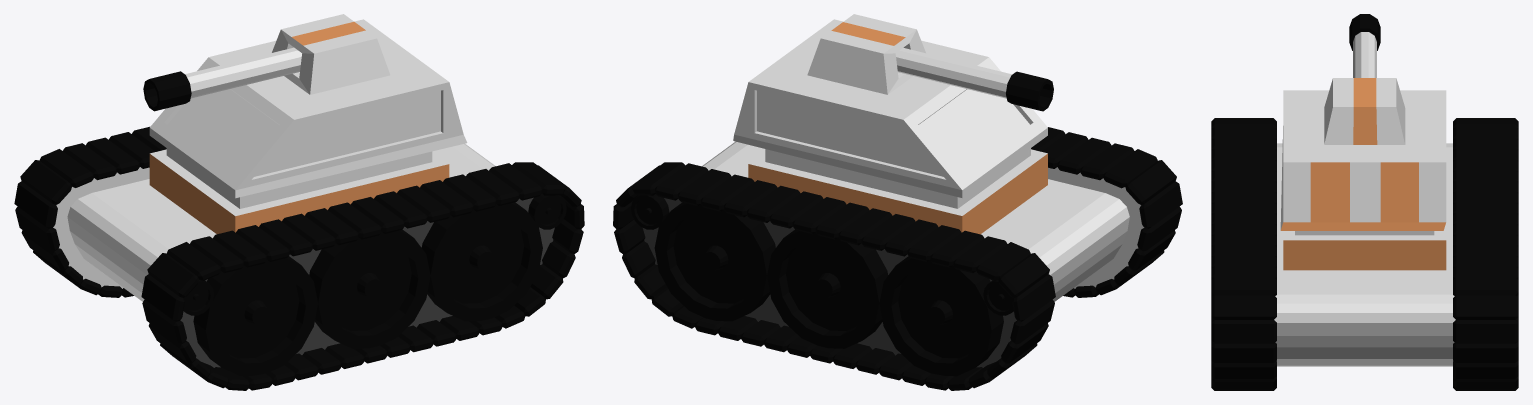
File: Default Tank.fbx
The picture shows the model from 3 angles, left to right: view 1: azimuth 30°, elevation 25°; view 2: azimuth 150°, elevation 25°; view 3: azimuth 270°, elevation 25°; orthographic projection. The views are drawn at different scales.
Visible parts, largest first — view 1: Cube.002, Cube.001, Cube, Cylinder.002, Cylinder.003, Cylinder.004, Cylinder.001, Cylinder.005; view 2: Cube.002, Cube.001, Cube, Cylinder.008, Cylinder.006, Cylinder.009, Cylinder.007, Cylinder.010; view 3: Cube.001, Cube.002, Cube.
Boxes of the visible parts, x1,y1,x2,y2 form: Cube.002: [143, 14, 467, 198]; Cube.001: [14, 126, 584, 390]; Cube: [53, 143, 554, 367]; Cylinder.002: [421, 202, 542, 321]; Cylinder.003: [309, 229, 430, 348]; Cylinder.004: [193, 256, 317, 376]; Cylinder.001: [528, 194, 566, 229]; Cylinder.005: [183, 280, 213, 315]; Cube.002: [733, 14, 1053, 197]; Cube.001: [613, 127, 1182, 390]; Cube: [643, 141, 1144, 367]; Cylinder.008: [767, 229, 888, 348]; Cylinder.006: [654, 202, 775, 321]; Cylinder.009: [879, 256, 1003, 376]; Cylinder.007: [631, 194, 669, 229]; Cylinder.010: [983, 280, 1013, 315]; Cube.001: [1211, 118, 1518, 390]; Cube.002: [1280, 14, 1446, 230]; Cube: [1274, 143, 1455, 366].
Size of the model in its own units: 577 by 351 by 392.
